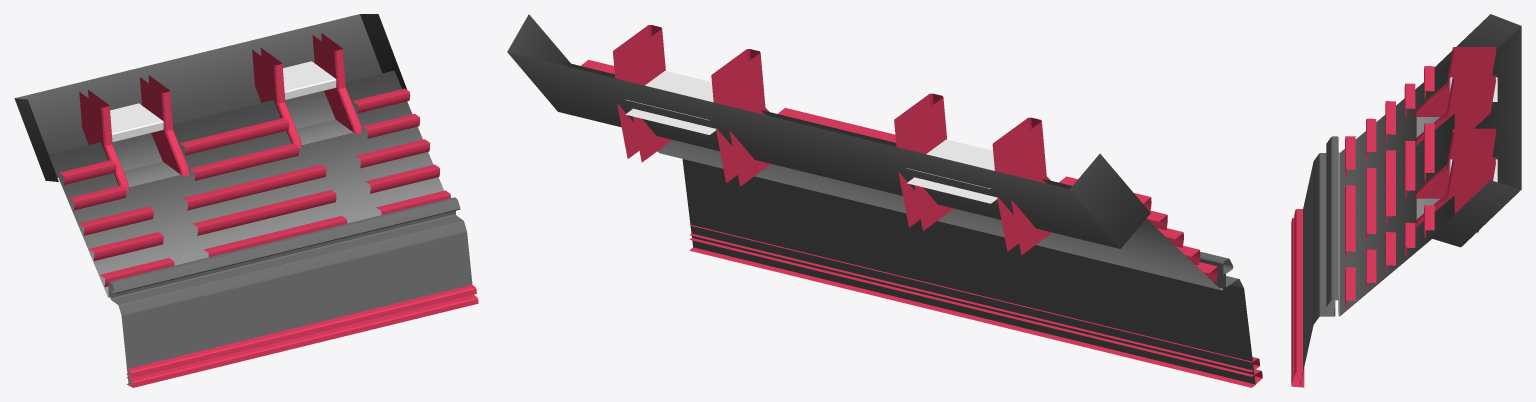
Rendered from SMrinkWall2x1V0.1.fbx.
3 views of the same model, side by side, from view 1: azimuth 30°, elevation 25°; view 2: azimuth 150°, elevation 25°; view 3: azimuth 270°, elevation 25° (orthographic). The views are drawn at different scales.
Parts seen in each view (by area): view 1: SMrinkWall1x2; view 2: SMrinkWall1x2; view 3: SMrinkWall1x2.
Boxes of the visible parts, x1,y1,x2,y2 form: SMrinkWall1x2: [14, 14, 478, 387]; SMrinkWall1x2: [507, 14, 1262, 387]; SMrinkWall1x2: [1291, 14, 1521, 387].
Bounding box in the file's own units: 2030 × 1191 × 1189.
